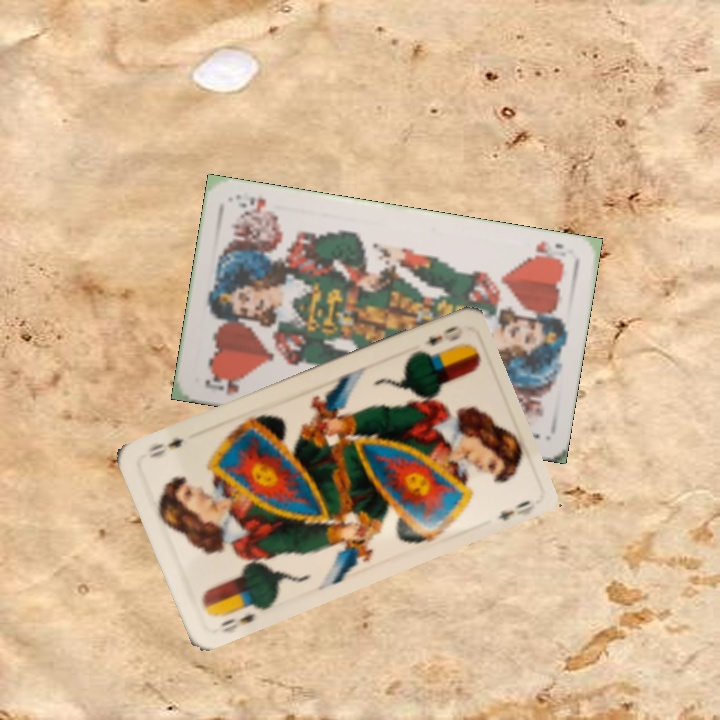EO: (208, 599, 265, 636), (420, 321, 465, 349)
HO: (523, 237, 569, 267), (201, 370, 247, 398)
